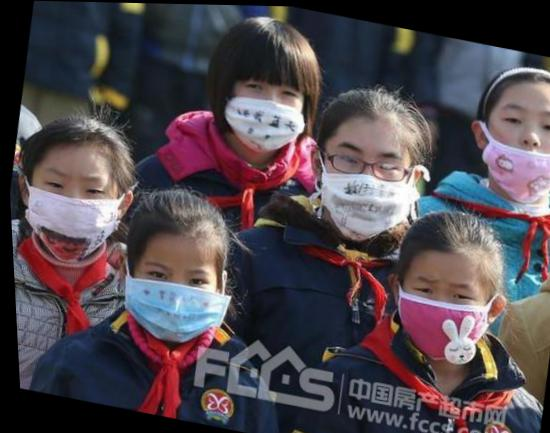OK: (17, 150, 127, 272), (306, 133, 421, 246), (117, 244, 225, 351), (387, 261, 496, 366), (221, 58, 313, 159)
WRONG: (475, 89, 550, 206)
